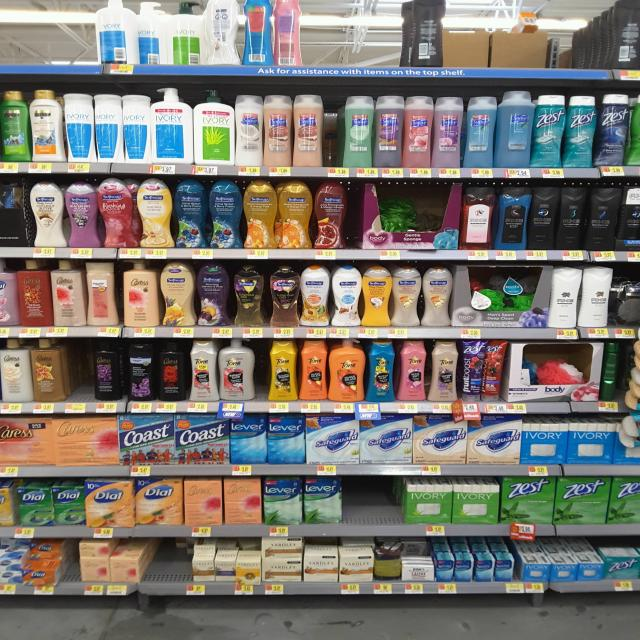unorganised: (243, 1, 304, 67), (402, 1, 444, 68), (206, 1, 240, 66), (138, 2, 167, 65), (612, 1, 639, 68)
